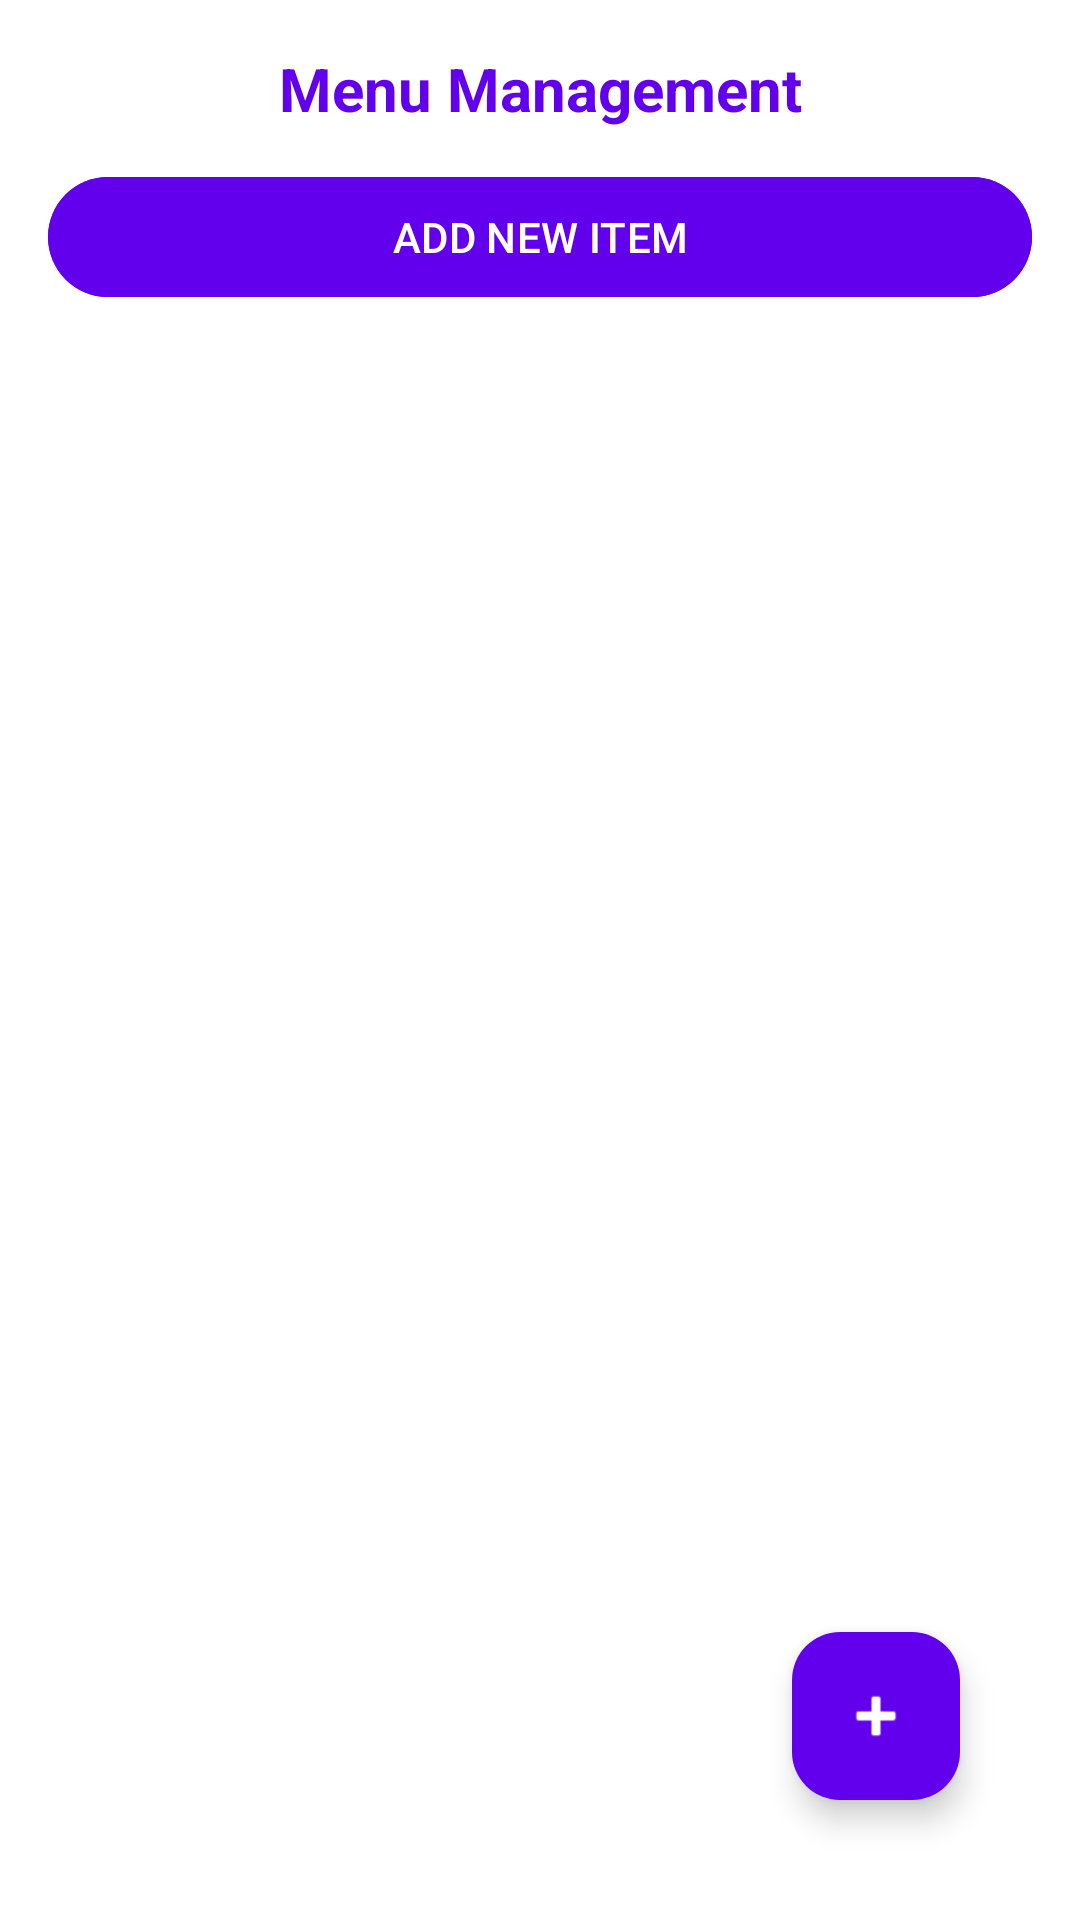

Locate icon controls on the screen. Image size 1080px x 1920px, boxes as (x1, y1, x2, y2).
Add menu item: (792, 1632, 960, 1800)
